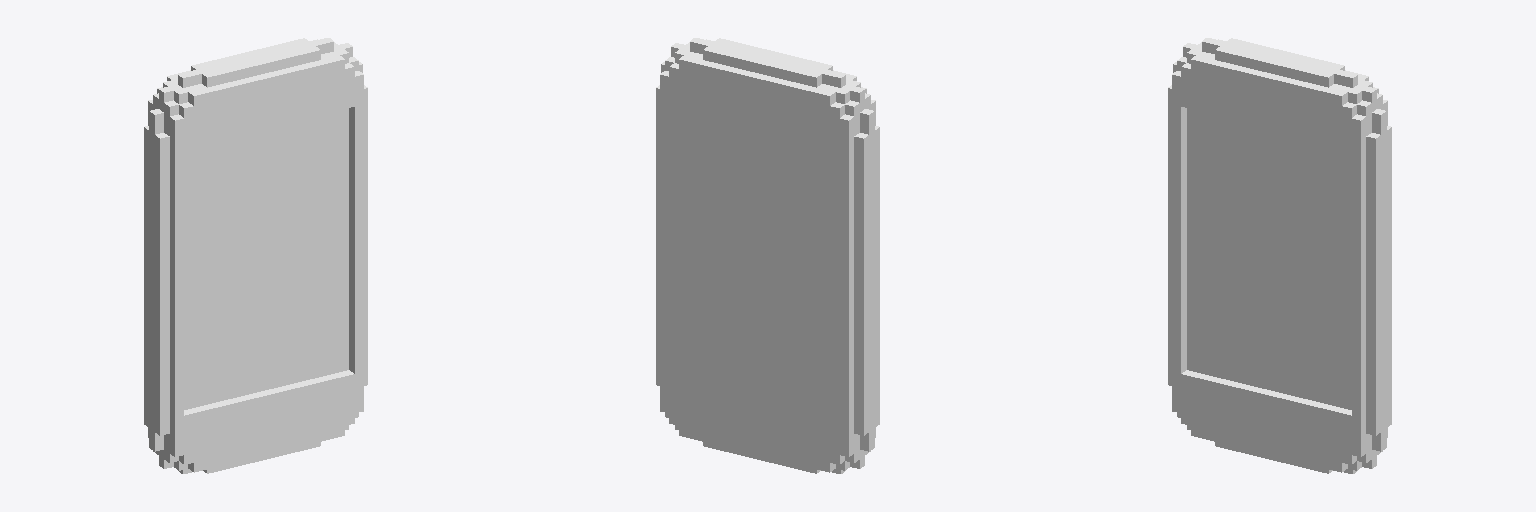
The model's file is phone.obj.
3 views of the same model, side by side, from view 1: azimuth 30°, elevation 25°; view 2: azimuth 150°, elevation 25°; view 3: azimuth 330°, elevation 25° (orthographic).
Bounding box in the file's own units: 22 × 40 × 5.